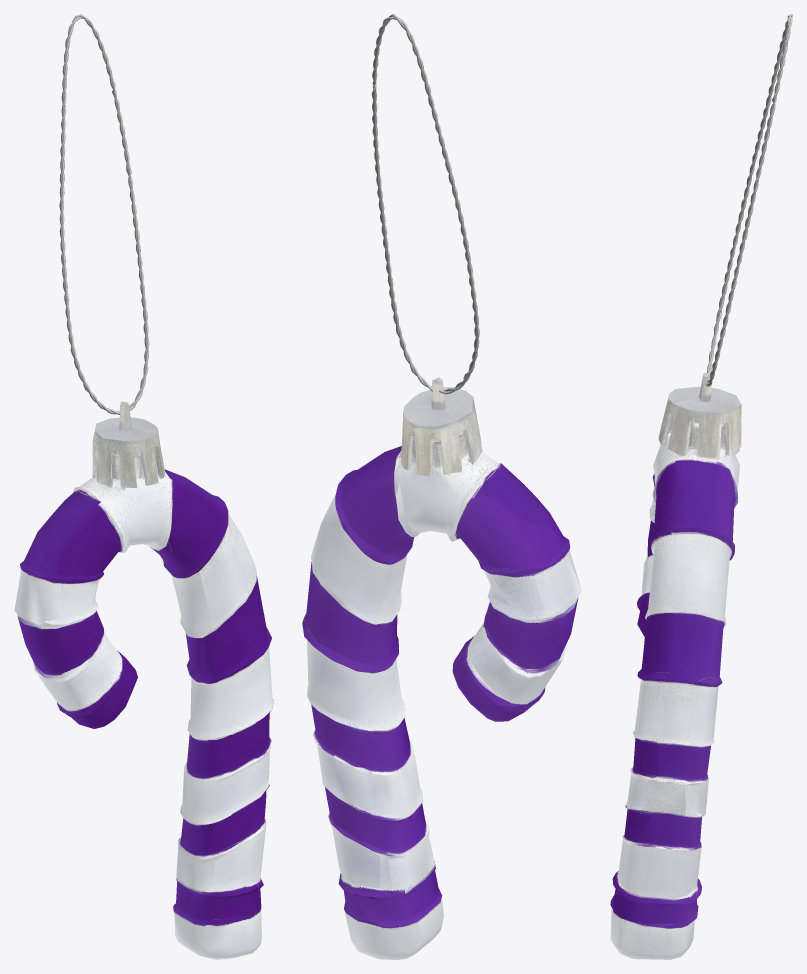
File: Candy_cane1.glb
3 views of the same model, side by side, from view 1: azimuth 30°, elevation 25°; view 2: azimuth 150°, elevation 25°; view 3: azimuth 270°, elevation 25° (orthographic). The views are drawn at different scales.
Parts seen in each view (by area): view 1: Mesh1.0, GN Instance; view 2: Mesh1.0, GN Instance; view 3: Mesh1.0, GN Instance.
Part boxes in pixels (<box>): Mesh1.0: <box>14,401,273,959</box>; GN Instance: <box>59,14,149,414</box>; Mesh1.0: <box>302,377,581,959</box>; GN Instance: <box>371,14,479,394</box>; Mesh1.0: <box>610,373,741,959</box>; GN Instance: <box>706,14,792,386</box>.
Bounding box in the file's own units: 0.0409 × 0.1487 × 0.0272.
Materials: 2 (1 with a texture image).
